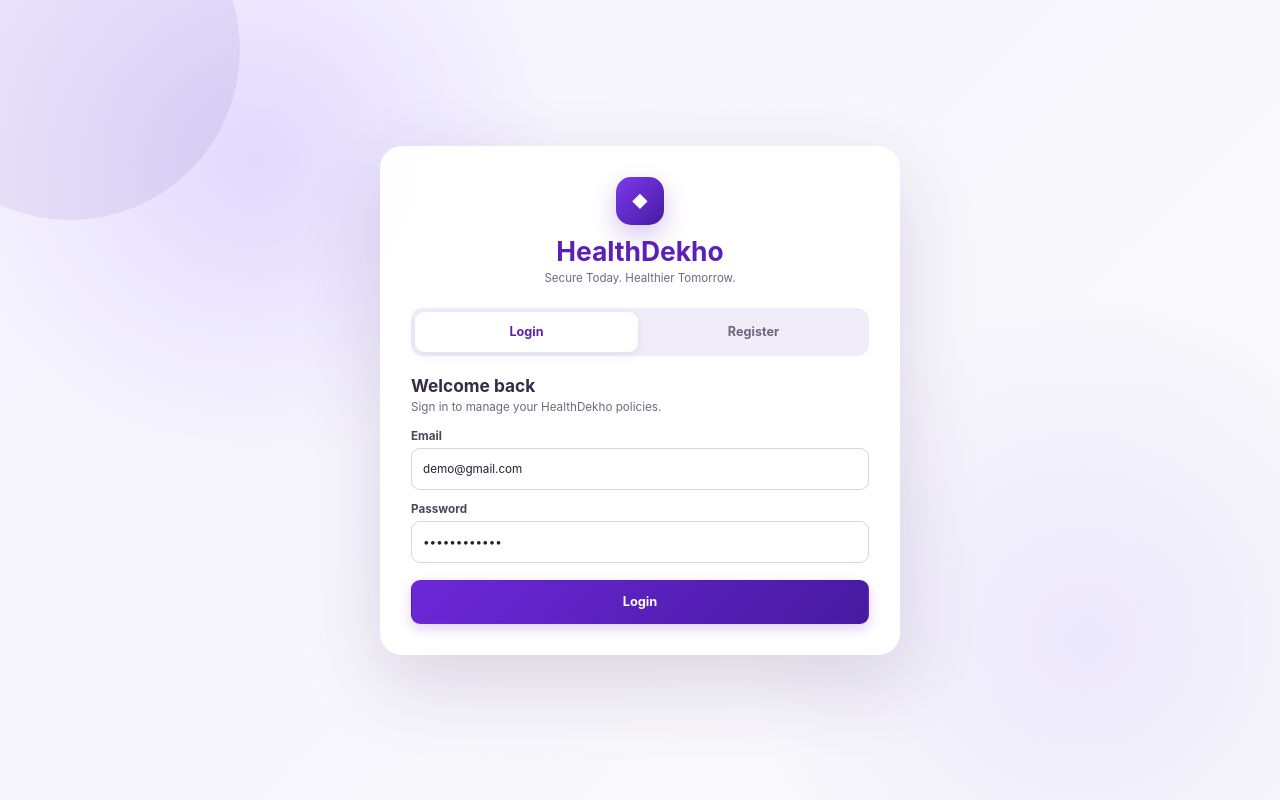
LoginPage › rejects password mismatch
The width and height of the screenshot is (1280, 800).
Click the tab "Register" at (754, 332), box [642,312,865,352]
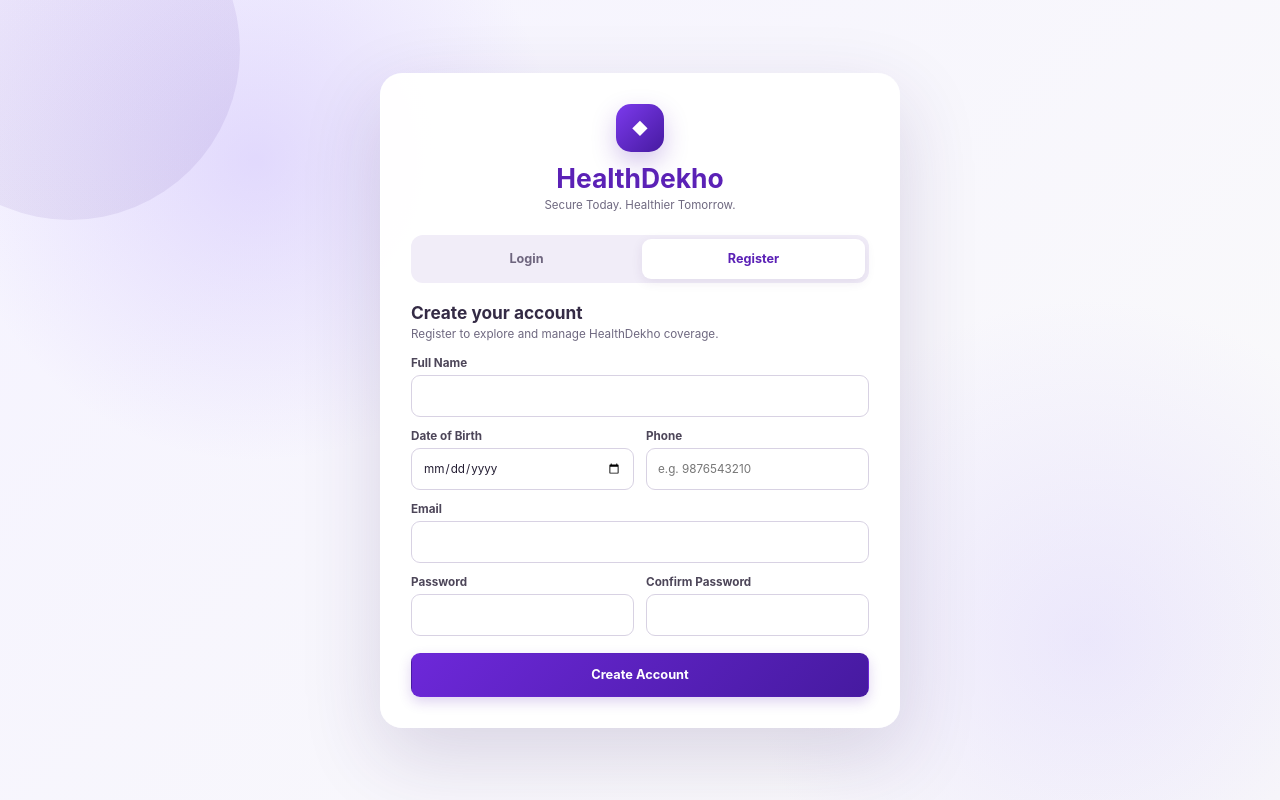
Type "Aarav Sharma" into the field labelled "Full Name" at (640, 396), box [411,374,869,416]
Type "1990-04-15" into the date field labelled "Date of Birth" at (522, 468), box [411,448,634,490]
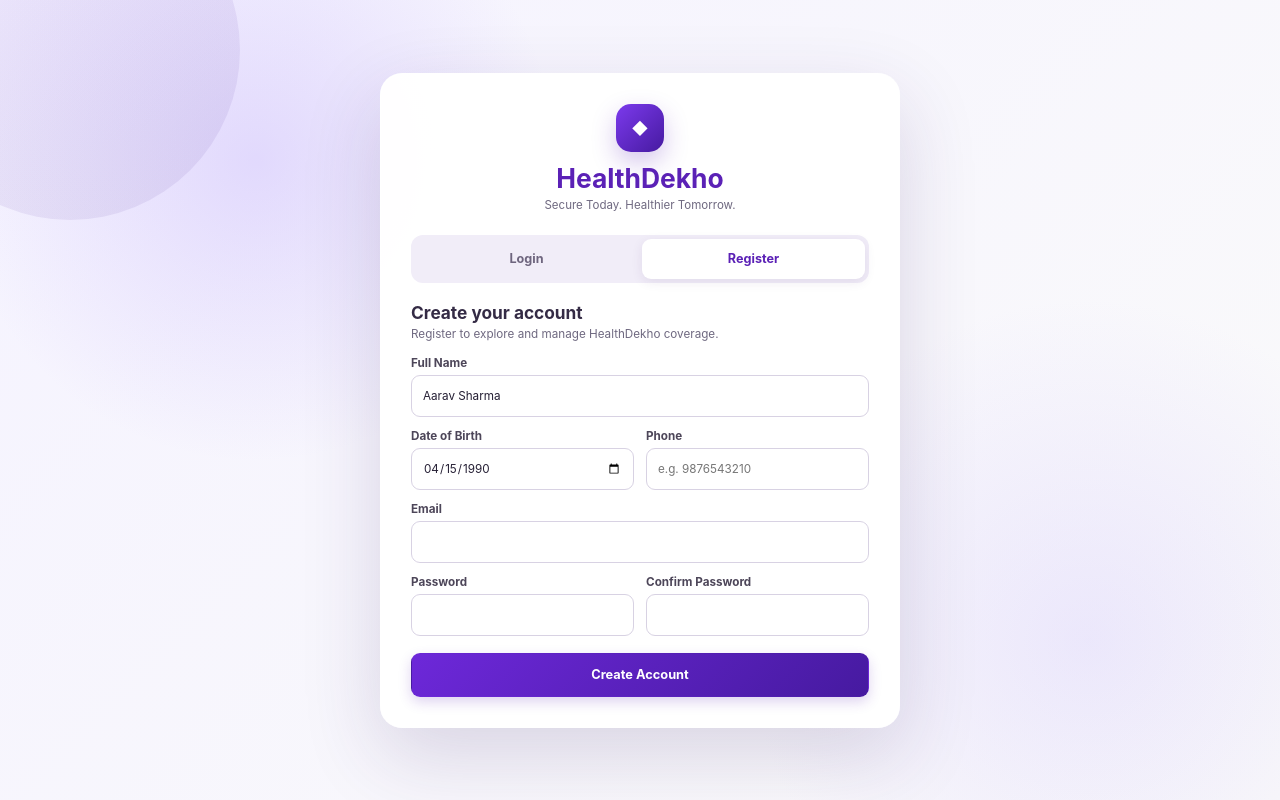
Type "aarav@example.com" into the field labelled "Email" at (640, 542), box [411,520,869,562]
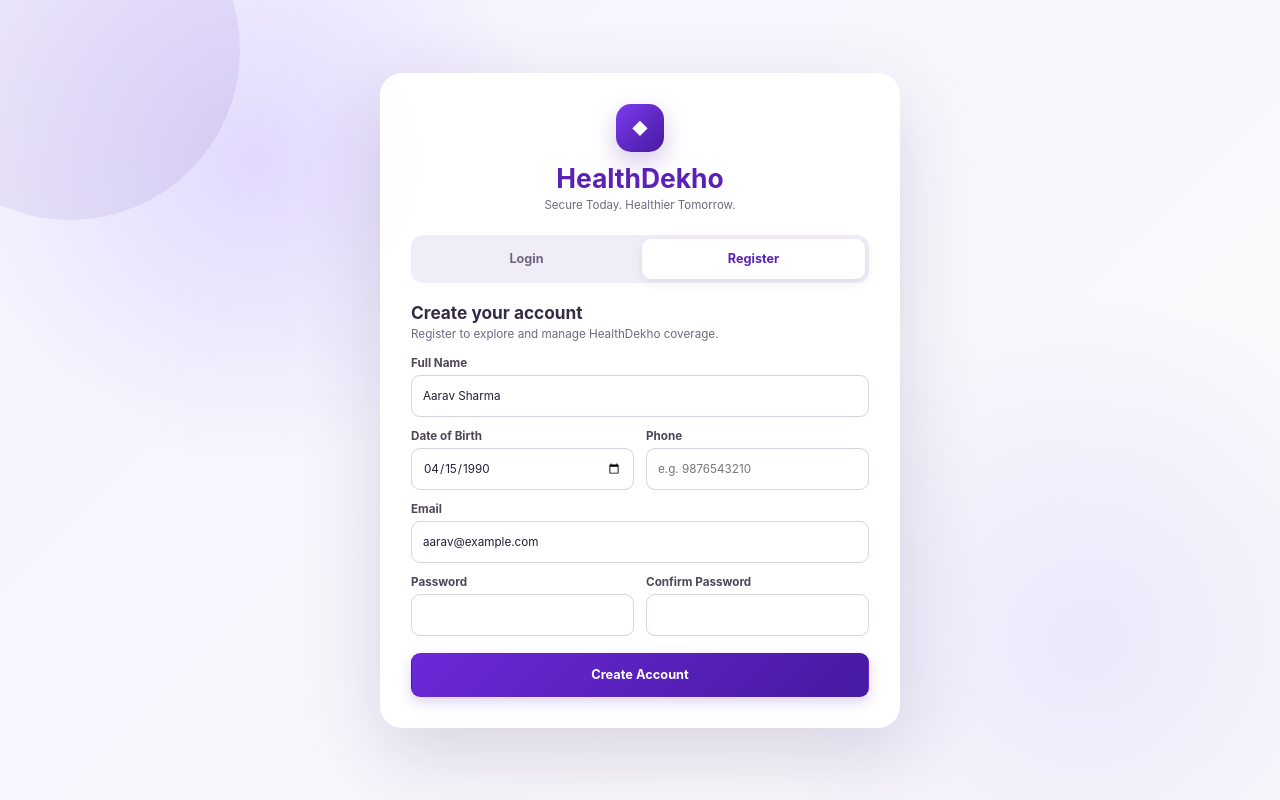
Type "Password@123" into the password field labelled "Password" at (522, 614), box [411,594,634,636]
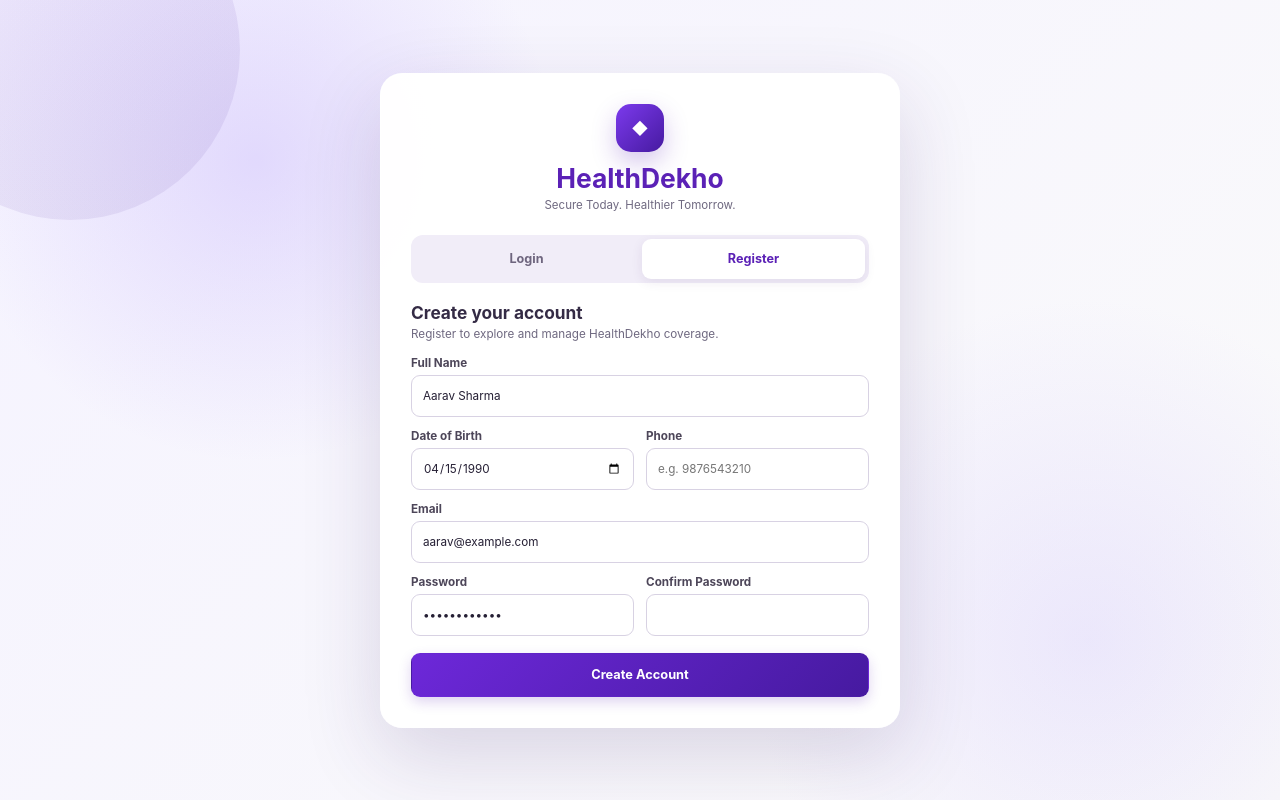
Type "Different@123" into the password field labelled "Confirm Password" at (758, 614), box [646,594,869,636]
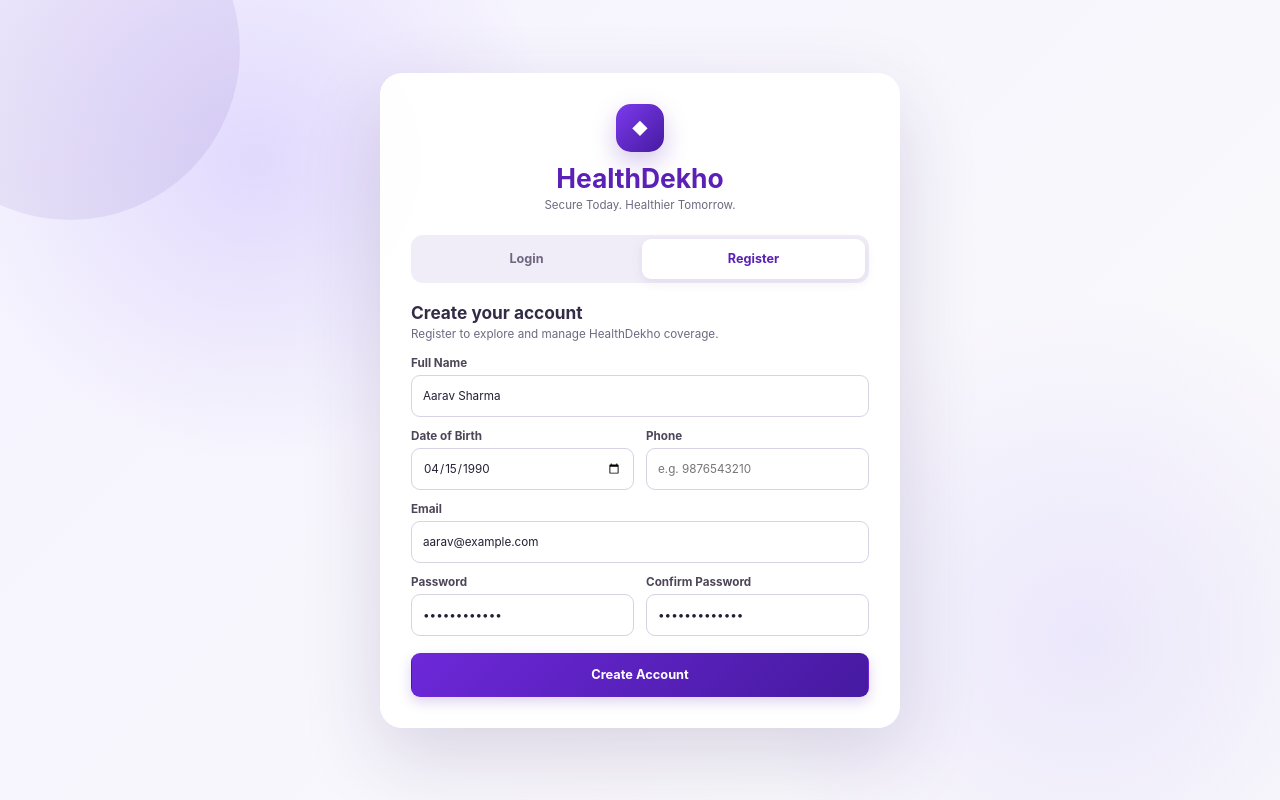
Click the button "Create Account" at (640, 674), box [411,652,869,696]
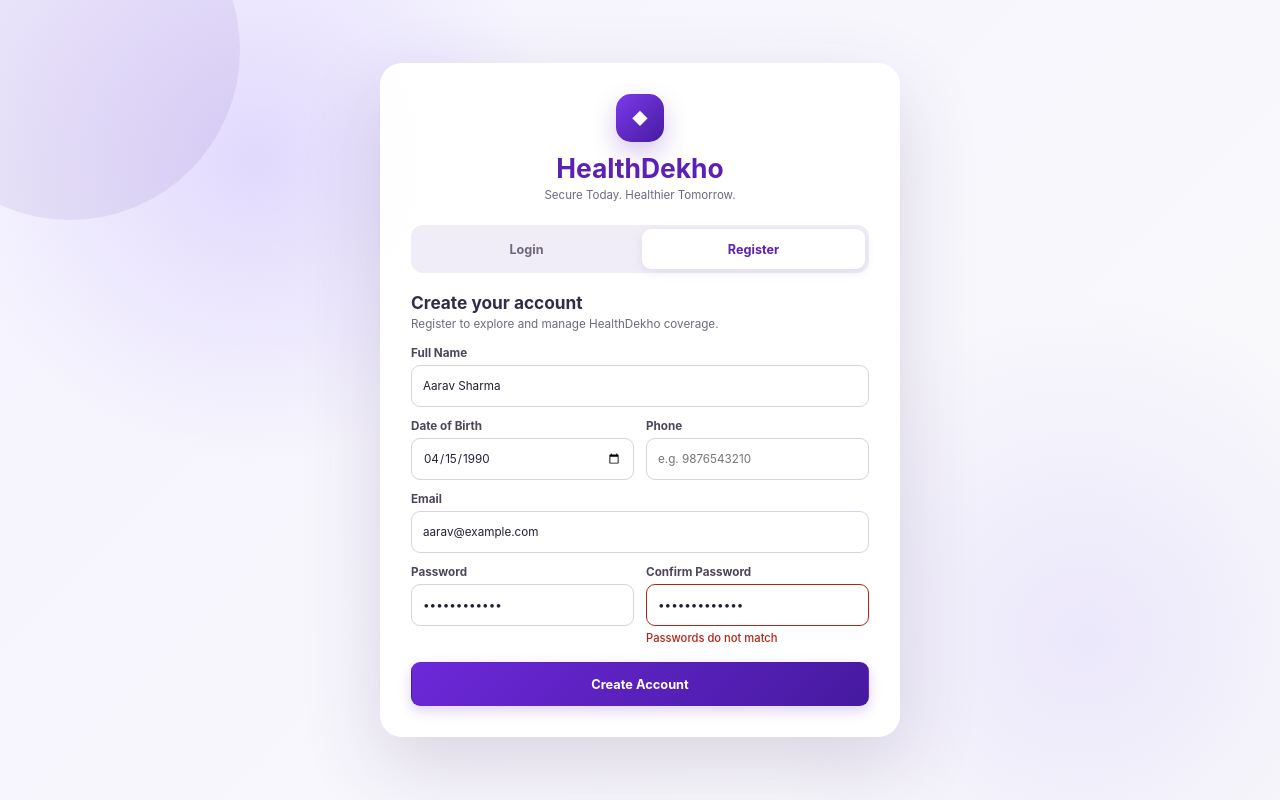
Expected: the text "Passwords do not match" is shown, [646,631,778,645]
